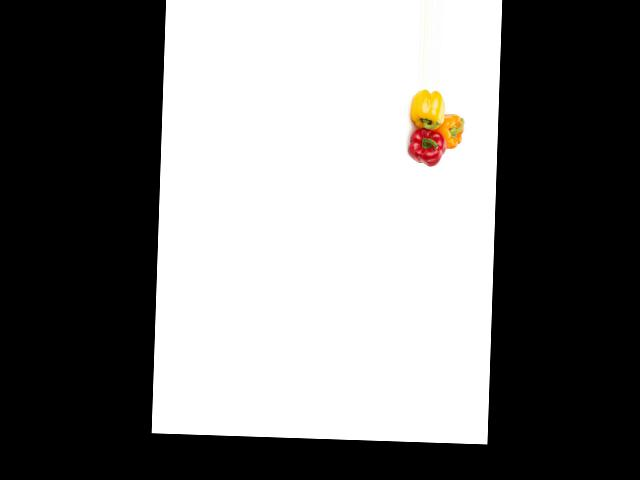bell_pepper: (406, 89, 446, 128)
